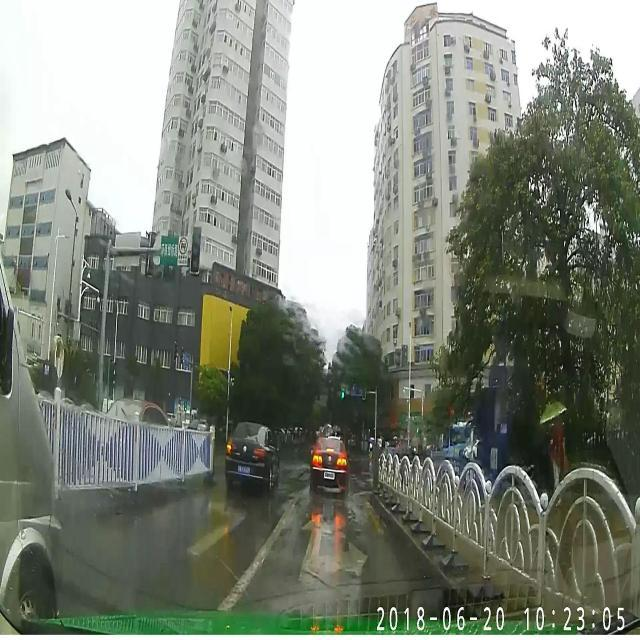car: (0, 251, 67, 605), (230, 421, 280, 492), (310, 436, 346, 496), (100, 400, 168, 426), (442, 426, 474, 458)
